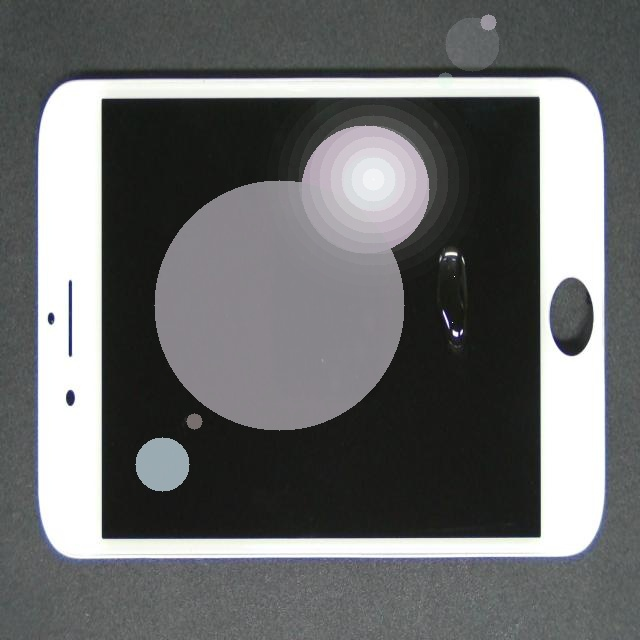oil: (238, 115, 640, 370)
